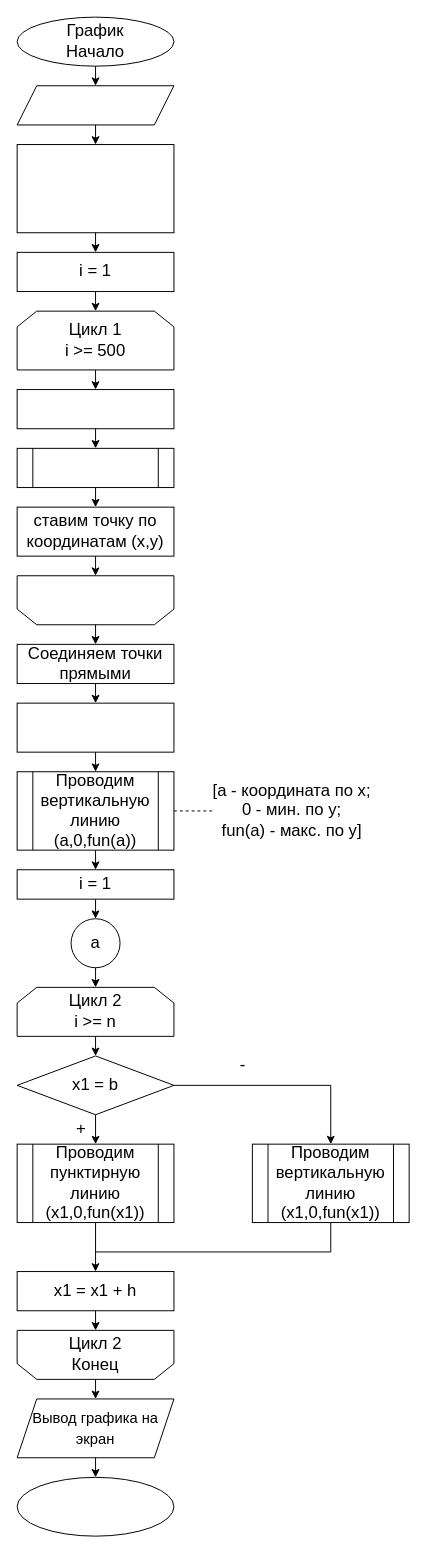
This 426x1553 diagram has some shape labels left out. The centre of each missing label's shape, as x and y in pixels:
"a,b,n" belongs at point (95, 105).
"h = (b-a) / h x1 = a + h" belongs at point (95, 727).
"x - случайное число от -100 до 100" belongs at point (95, 409).
"y = fun(x)" belongs at point (95, 467).
"График Конец" belongs at point (95, 1506).
"Строим координатную плоскость с осями X,Y" belongs at point (95, 188).
"Цикл 1 Конец" belongs at point (95, 600).
